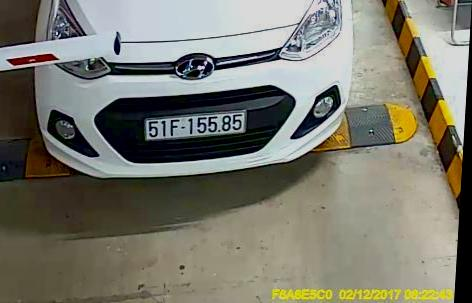License_Plate: (143, 111, 248, 140)
